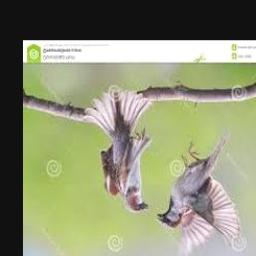Sparrow: (156, 132, 240, 252), (84, 87, 152, 212)
